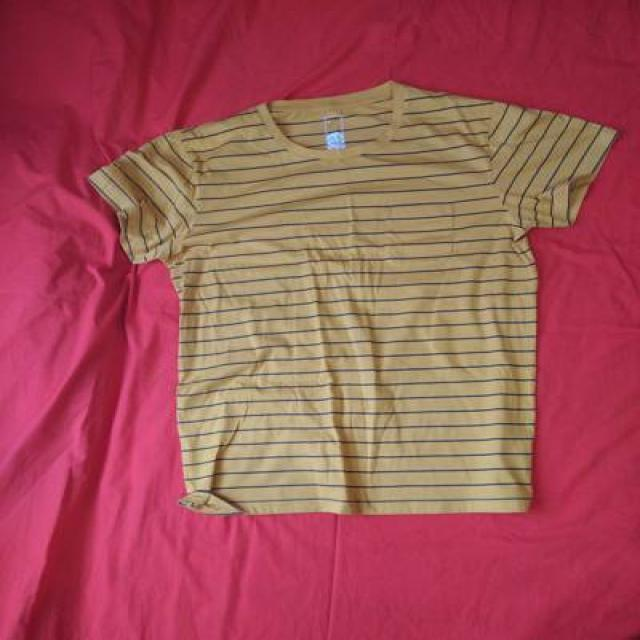Clothes -Biodegradable-: (92, 83, 618, 516)
